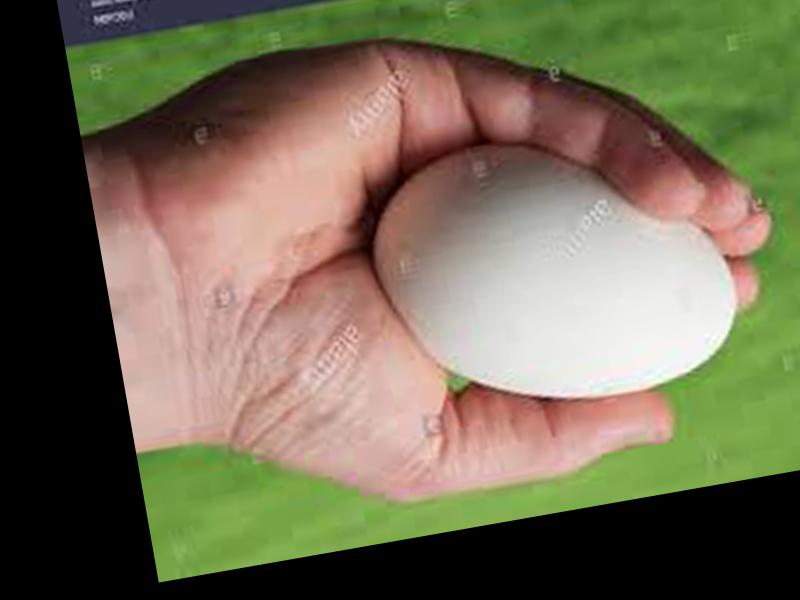Eggs: (352, 106, 747, 435)
